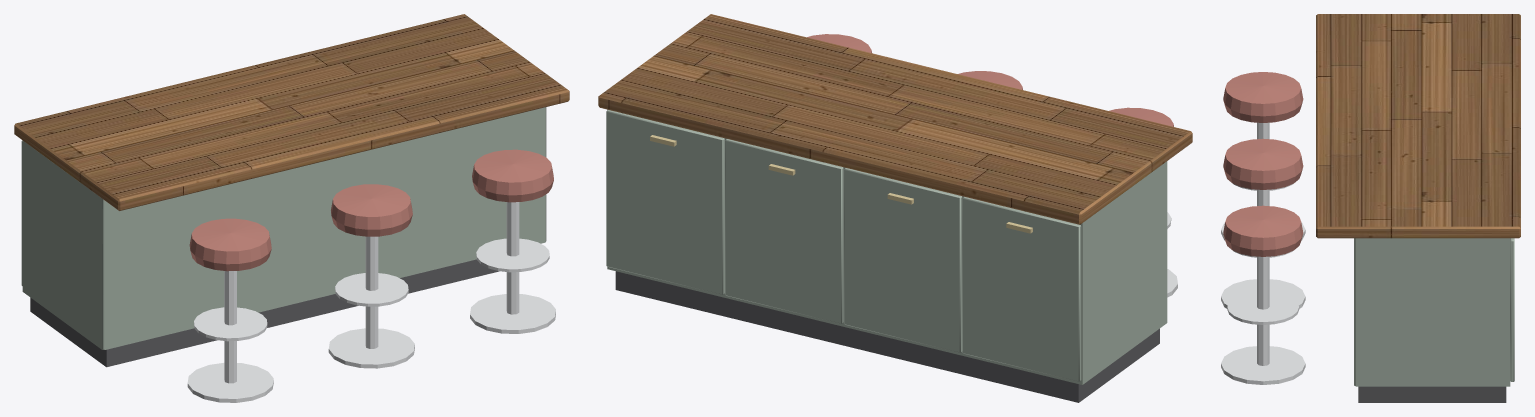
File: island.glb
The picture shows the model from 3 angles, left to right: view 1: azimuth 30°, elevation 25°; view 2: azimuth 150°, elevation 25°; view 3: azimuth 270°, elevation 25°; orthographic projection. The views are drawn at different scales.
Parts seen in each view (by area): view 1: island_cab_g, island_timber, island_chrome, island_vinyl_r, island_dark; view 2: island_cab_g, island_timber, island_dark, island_vinyl_r, island_brass; view 3: island_timber, island_cab_g, island_vinyl_r, island_chrome, island_dark.
Part boxes in pixels (bbox=[...]): island_cab_g: bbox=[21, 107, 546, 349]; island_timber: bbox=[14, 14, 569, 210]; island_chrome: bbox=[187, 202, 555, 402]; island_vinyl_r: bbox=[189, 149, 553, 271]; island_dark: bbox=[30, 259, 498, 367]; island_cab_g: bbox=[606, 109, 1167, 384]; island_timber: bbox=[598, 14, 1192, 224]; island_dark: bbox=[615, 271, 1159, 402]; island_vinyl_r: bbox=[807, 34, 1173, 126]; island_brass: bbox=[650, 135, 1032, 233]; island_timber: bbox=[1316, 14, 1520, 238]; island_cab_g: bbox=[1354, 238, 1514, 386]; island_vinyl_r: bbox=[1223, 72, 1303, 256]; island_chrome: bbox=[1221, 122, 1305, 384]; island_dark: bbox=[1358, 386, 1506, 402].
Size of the model in its own units: 2.4 by 0.94 by 1.42.
Materials: 6 (1 with a texture image).
